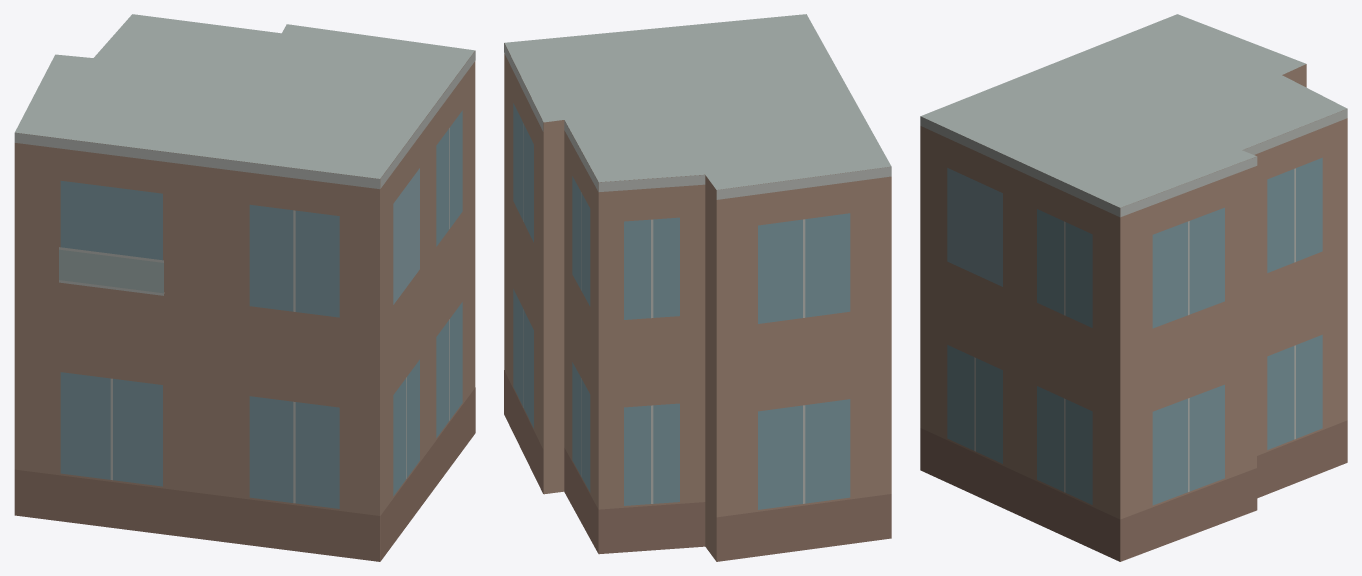
The model's file is survey-upis-32494662.glb.
3 renders of one model, left to right at view 1: azimuth 30°, elevation 25°; view 2: azimuth 150°, elevation 25°; view 3: azimuth 270°, elevation 25°, orthographic. The views are drawn at different scales.
Parts seen in each view (by area): view 1: survey-upis-32494662.tmp; view 2: survey-upis-32494662.tmp; view 3: survey-upis-32494662.tmp.
Part boxes in pixels (x1,y1,x2,y2): survey-upis-32494662.tmp: (14, 14, 475, 561); survey-upis-32494662.tmp: (504, 14, 891, 561); survey-upis-32494662.tmp: (920, 14, 1347, 561).
Bounding box in the file's own units: 10.7 × 9.1 × 9.96.
